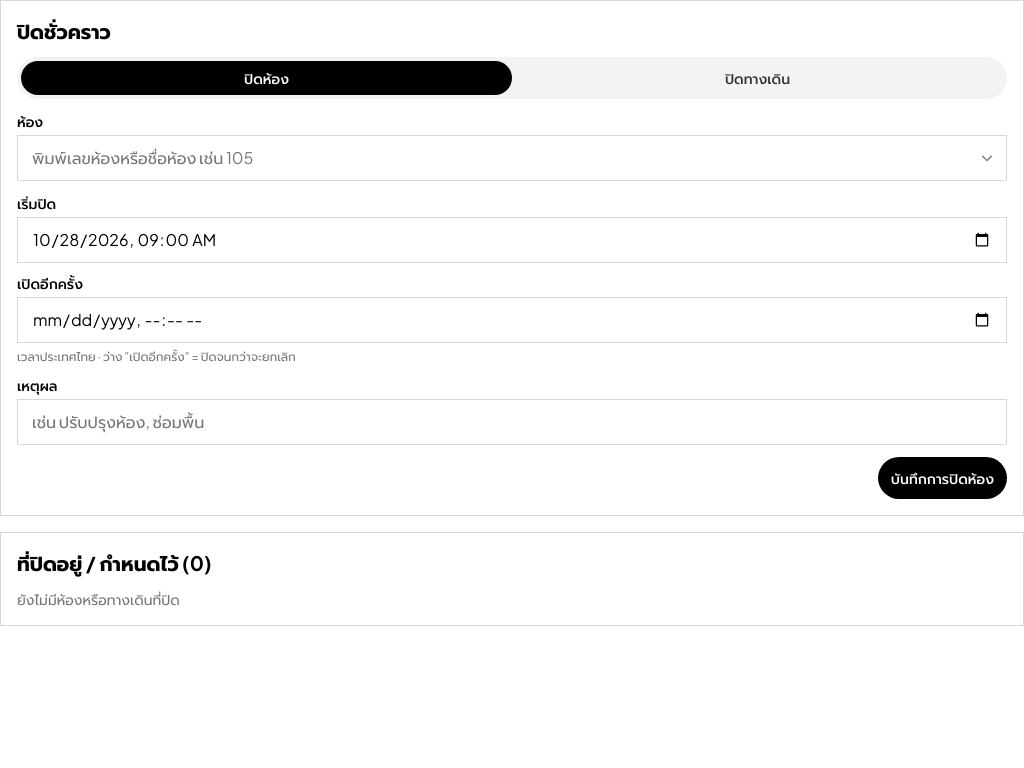
ClosurePanel › shows the API error and keeps the form
Type "104" into the dropdown at (512, 158), box [17,135,1007,181]
Then press Enter
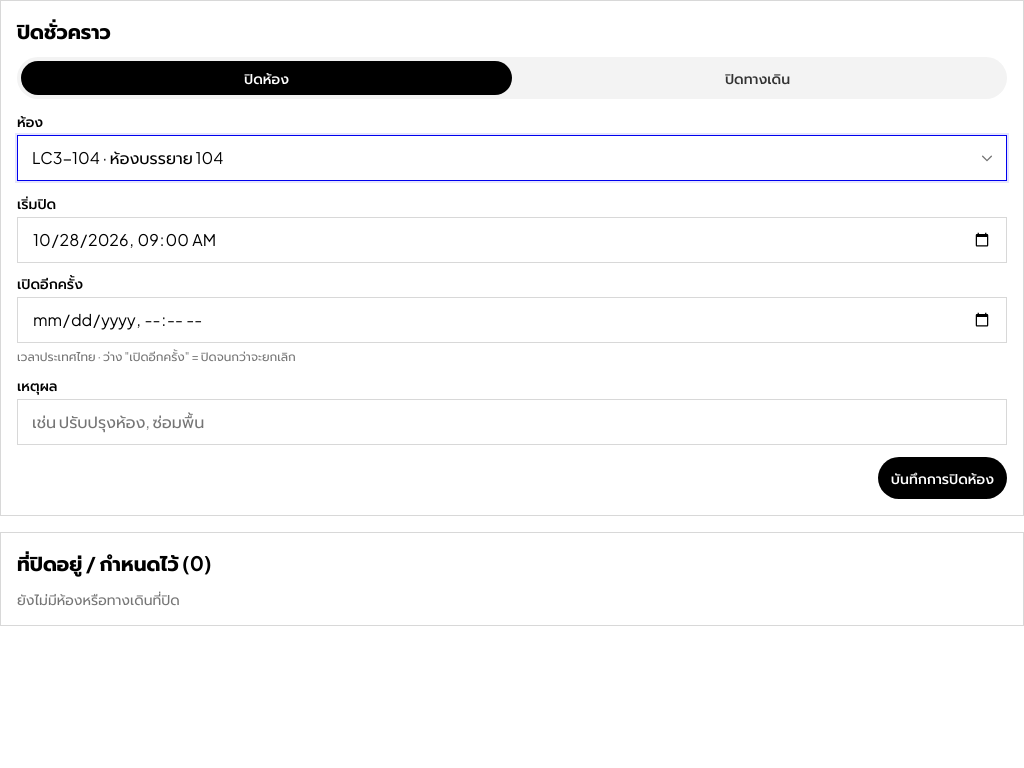
Click the button "บันทึกการปิดห้อง" at (942, 478), box [878,457,1007,499]
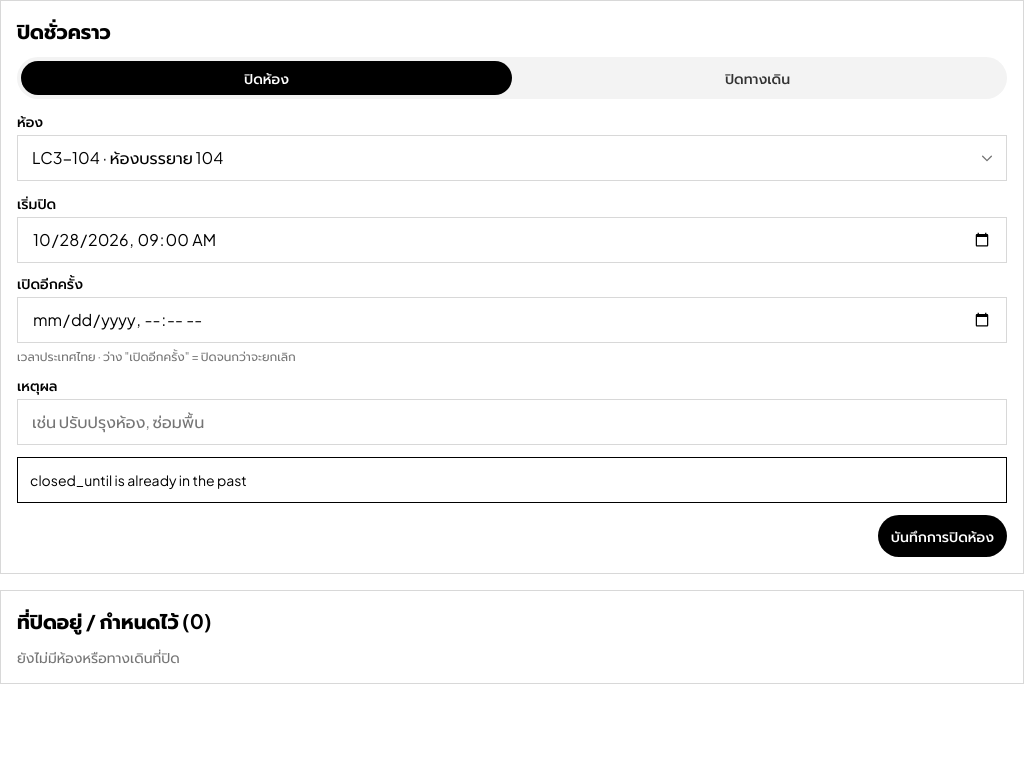
Result: the message reads "closed_until is already in the past" at [30,471,247,489]
